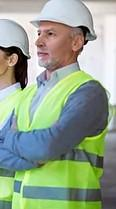hat: (25, 2, 116, 78), (1, 12, 38, 86)
vest: (7, 64, 115, 209), (1, 73, 25, 209)
